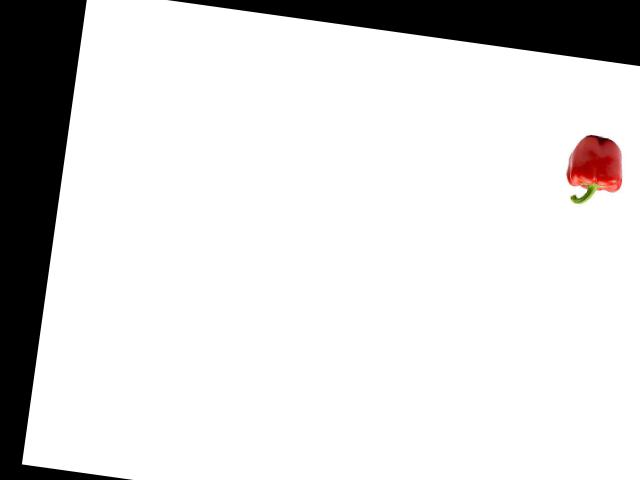bell_pepper: (558, 129, 631, 211)
